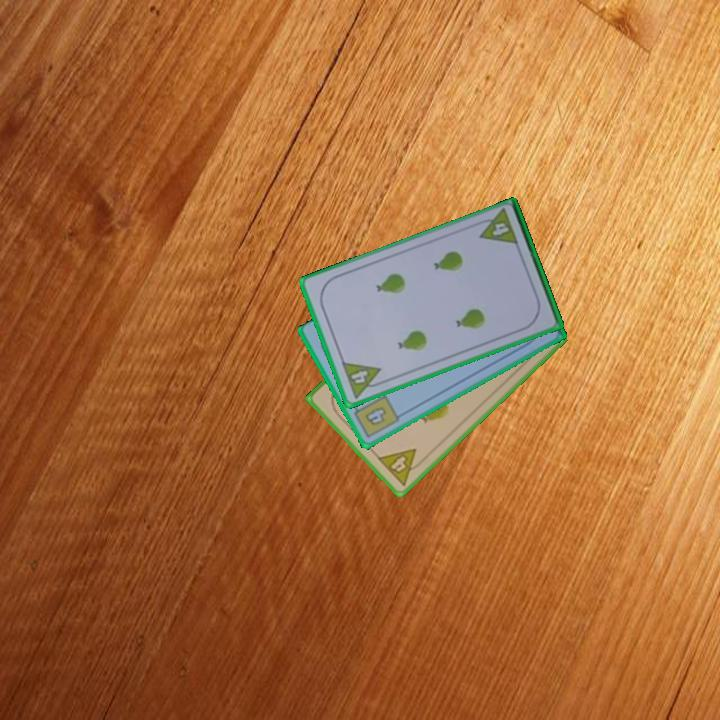4b: (349, 392, 402, 441)
4p: (374, 445, 428, 489), (338, 358, 388, 401), (472, 206, 521, 249)
